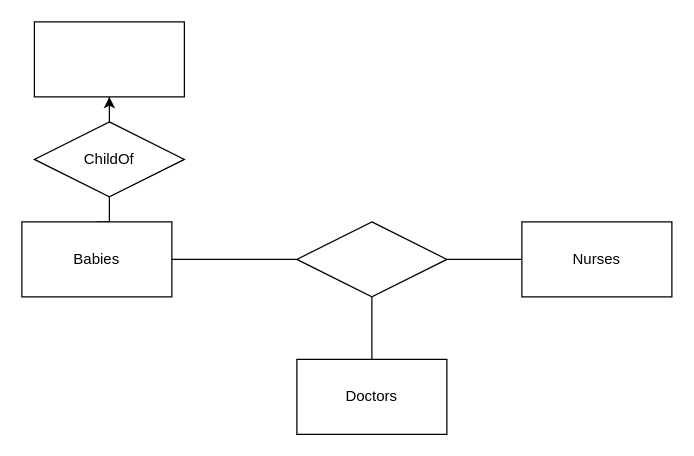
This 694x456 diagram has some shape labels left out. The shapes that lost their labels are listed below. From the top down, each one's centre as x and y in pixels, then its label:
At point (108, 59): "Mothers".
At point (371, 259): "birth".
